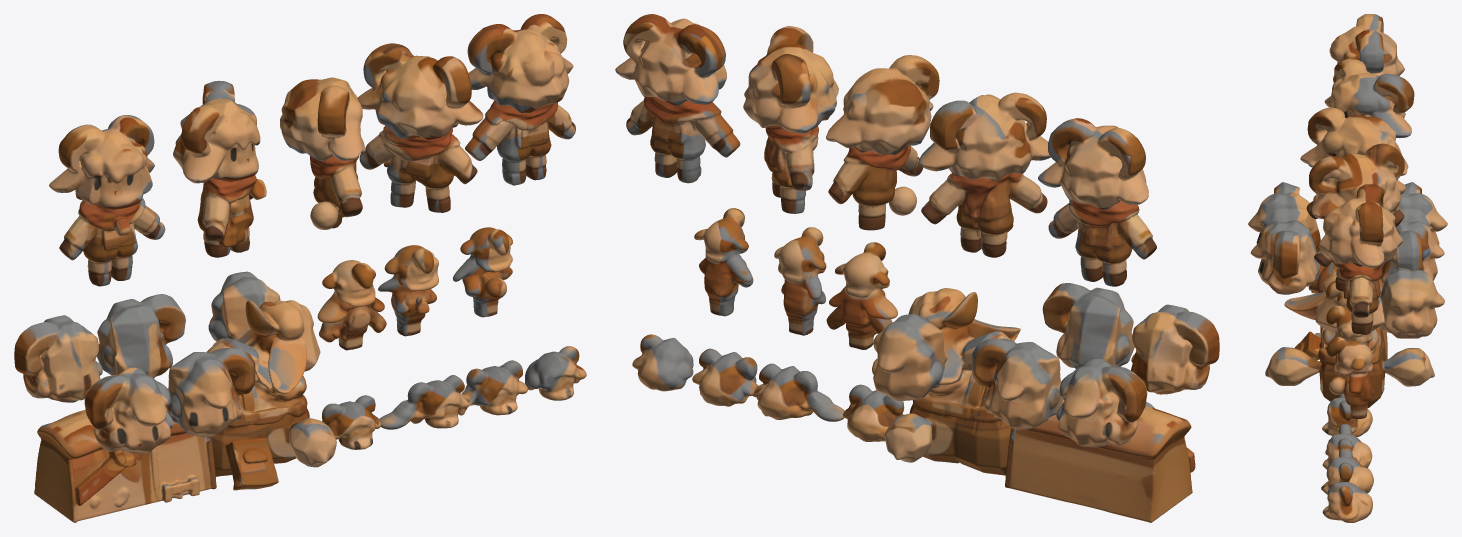
File: sheep character 3d model.glb
3 views of the same model, side by side, from view 1: azimuth 30°, elevation 25°; view 2: azimuth 150°, elevation 25°; view 3: azimuth 270°, elevation 25° (orthographic). The views are drawn at different scales.
Parts seen in each view (by area): view 1: tripo_node_c735f26e-debb-443f-976a-66d90601da86; view 2: tripo_node_c735f26e-debb-443f-976a-66d90601da86; view 3: tripo_node_c735f26e-debb-443f-976a-66d90601da86.
Boxes of the visible parts, box(x1,y1,x2,y2) form: tripo_node_c735f26e-debb-443f-976a-66d90601da86: box(14, 14, 586, 522); tripo_node_c735f26e-debb-443f-976a-66d90601da86: box(615, 14, 1219, 522); tripo_node_c735f26e-debb-443f-976a-66d90601da86: box(1248, 14, 1447, 522).
Bounding box in the file's own units: 1 × 0.6577 × 0.38.
Materials: 1 (1 with a texture image).
